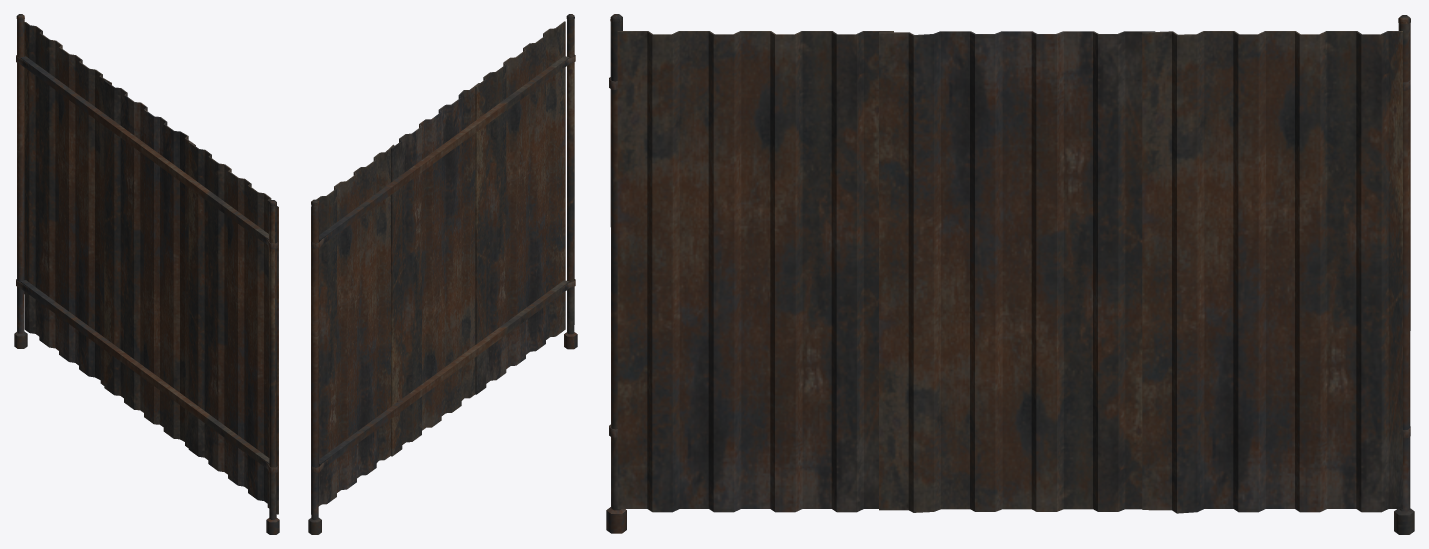
File: RustedFence_A_A.fbx
3 renders of one model, left to right at view 1: azimuth 30°, elevation 25°; view 2: azimuth 150°, elevation 25°; view 3: azimuth 270°, elevation 25°, orthographic. The views are drawn at different scales.
Parts seen in each view (by area): view 1: RustedFence_A_A; view 2: RustedFence_A_A; view 3: RustedFence_A_A.
Part boxes in pixels (x1,y1,x2,y2): RustedFence_A_A: [14, 14, 279, 534]; RustedFence_A_A: [308, 14, 577, 534]; RustedFence_A_A: [606, 14, 1414, 534].
Bounding box in the file's own units: 11.33 × 216 × 307.
